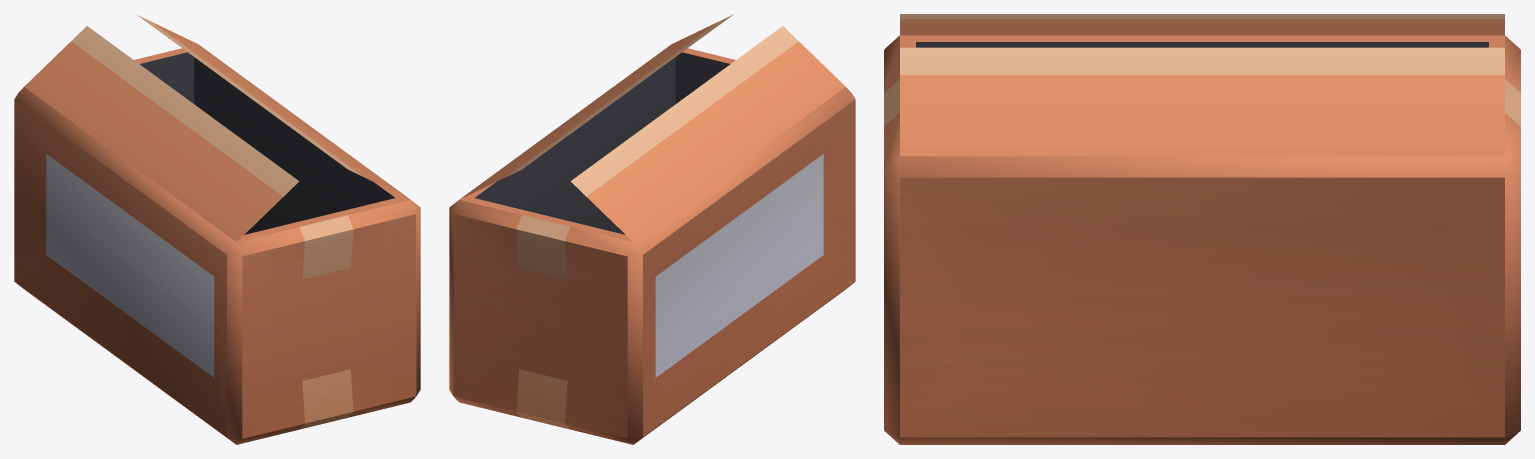
Rendered from box-large-open.glb.
The picture shows the model from 3 angles, left to right: view 1: azimuth 30°, elevation 25°; view 2: azimuth 150°, elevation 25°; view 3: azimuth 270°, elevation 25°; orthographic projection. The views are drawn at different scales.
Visible parts, largest first — view 1: box-large-open; view 2: box-large-open; view 3: box-large-open.
Boxes of the visible parts, bbox=[...] form: box-large-open: bbox=[14, 14, 420, 444]; box-large-open: bbox=[449, 14, 855, 444]; box-large-open: bbox=[884, 14, 1520, 444].
Bounding box in the file's own units: 0.25 × 0.3063 × 0.5.
Materials: 1 (1 with a texture image).
